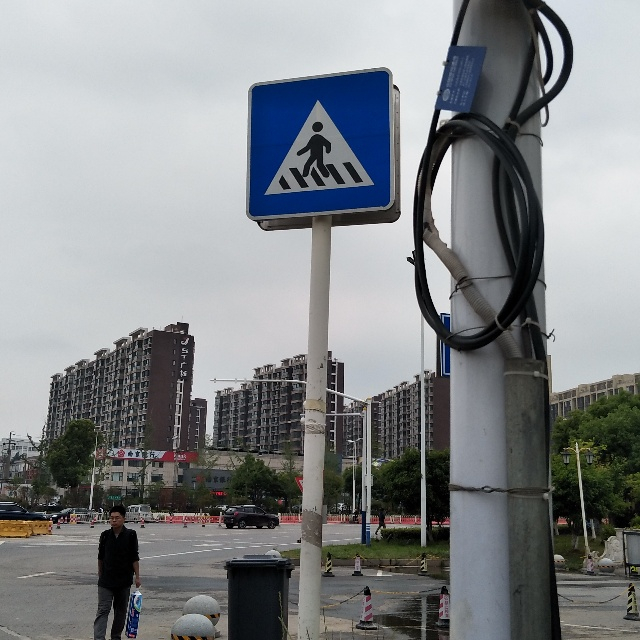crosswalk: (252, 82, 380, 201)
